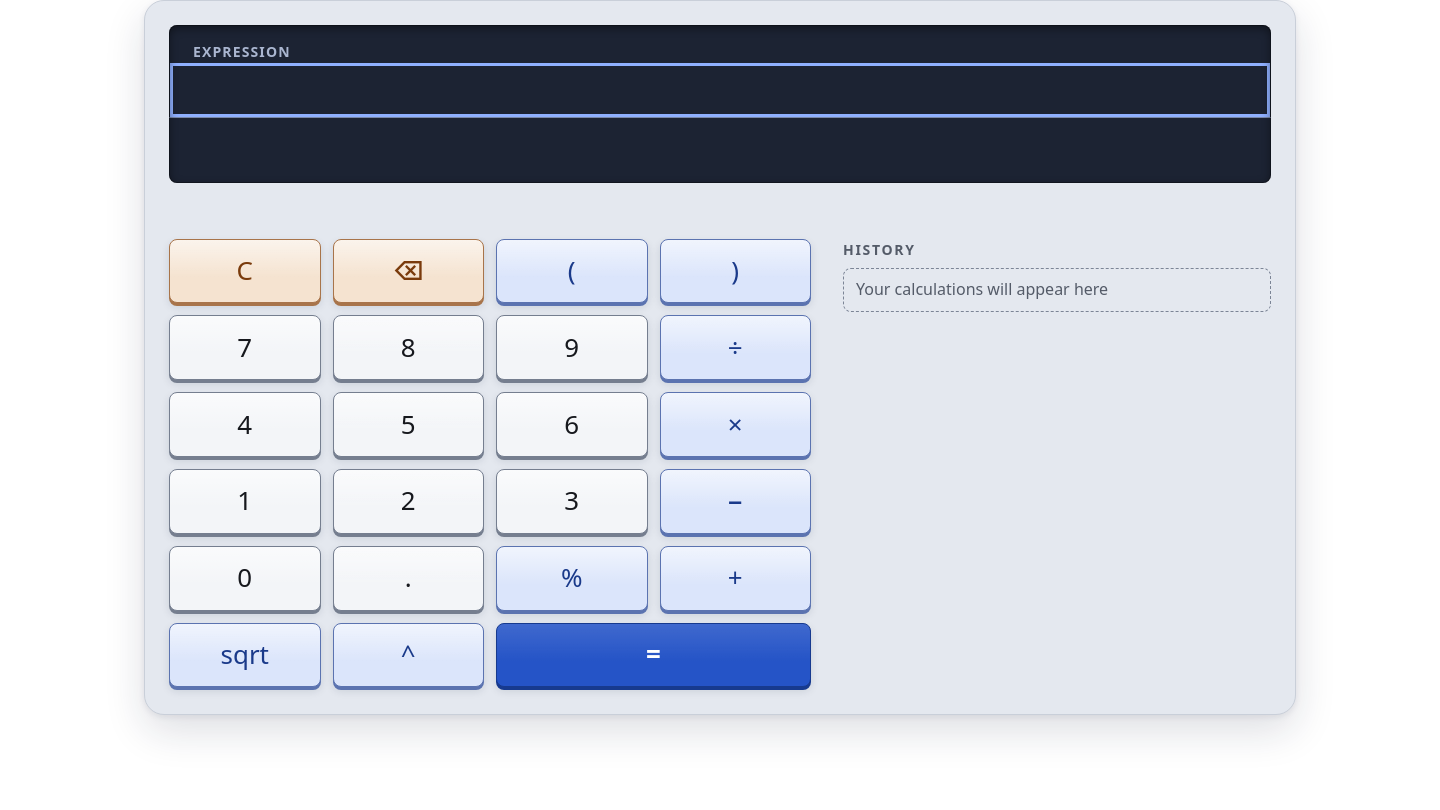
it: <Calculator /> › commit (FR-11) › disables = and ignores Enter while a commit is in flight (FR-11.4)
Type "2+2" into the field labelled "Expression".
click(720, 90); type("2+2")  # box [169, 62, 1271, 118]
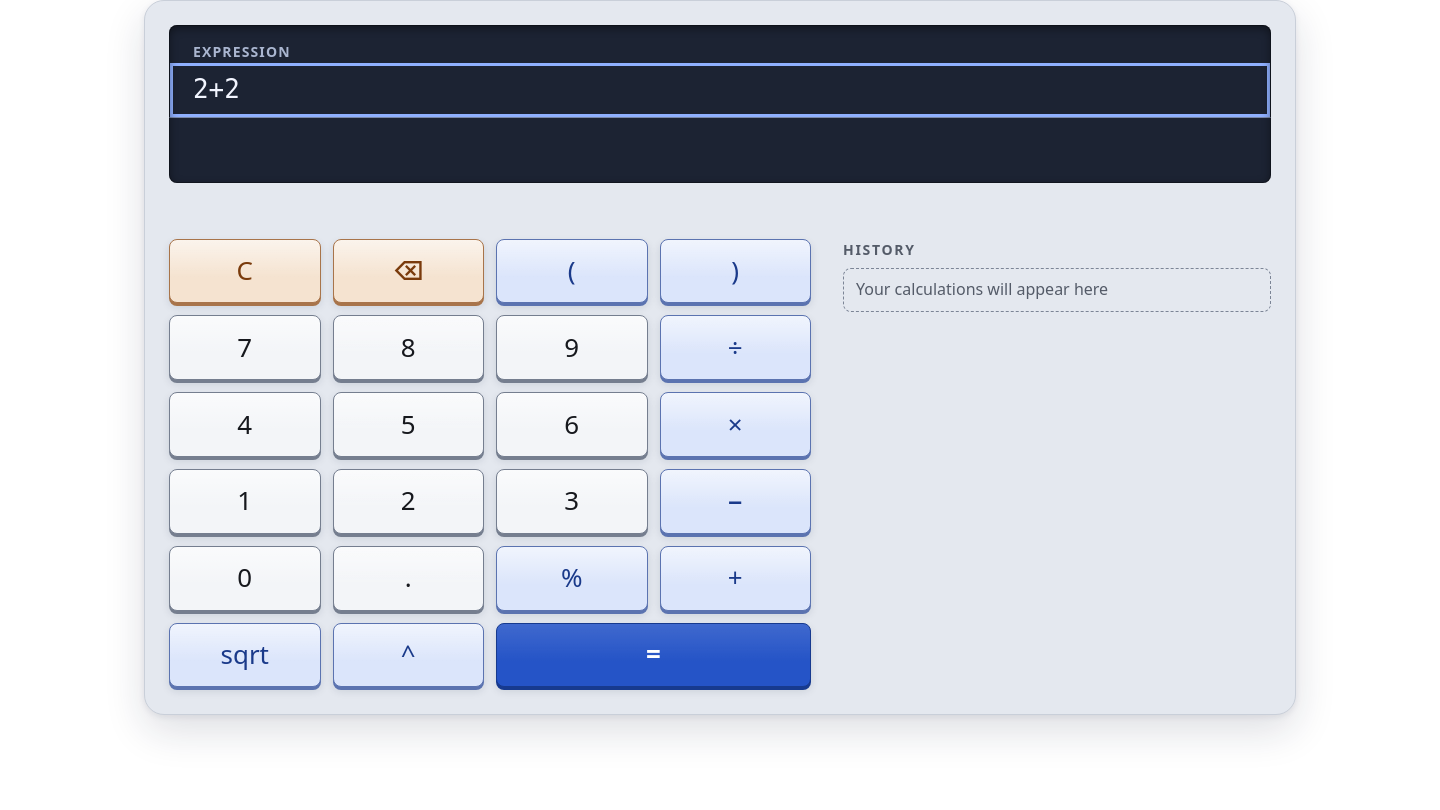
Press Enter
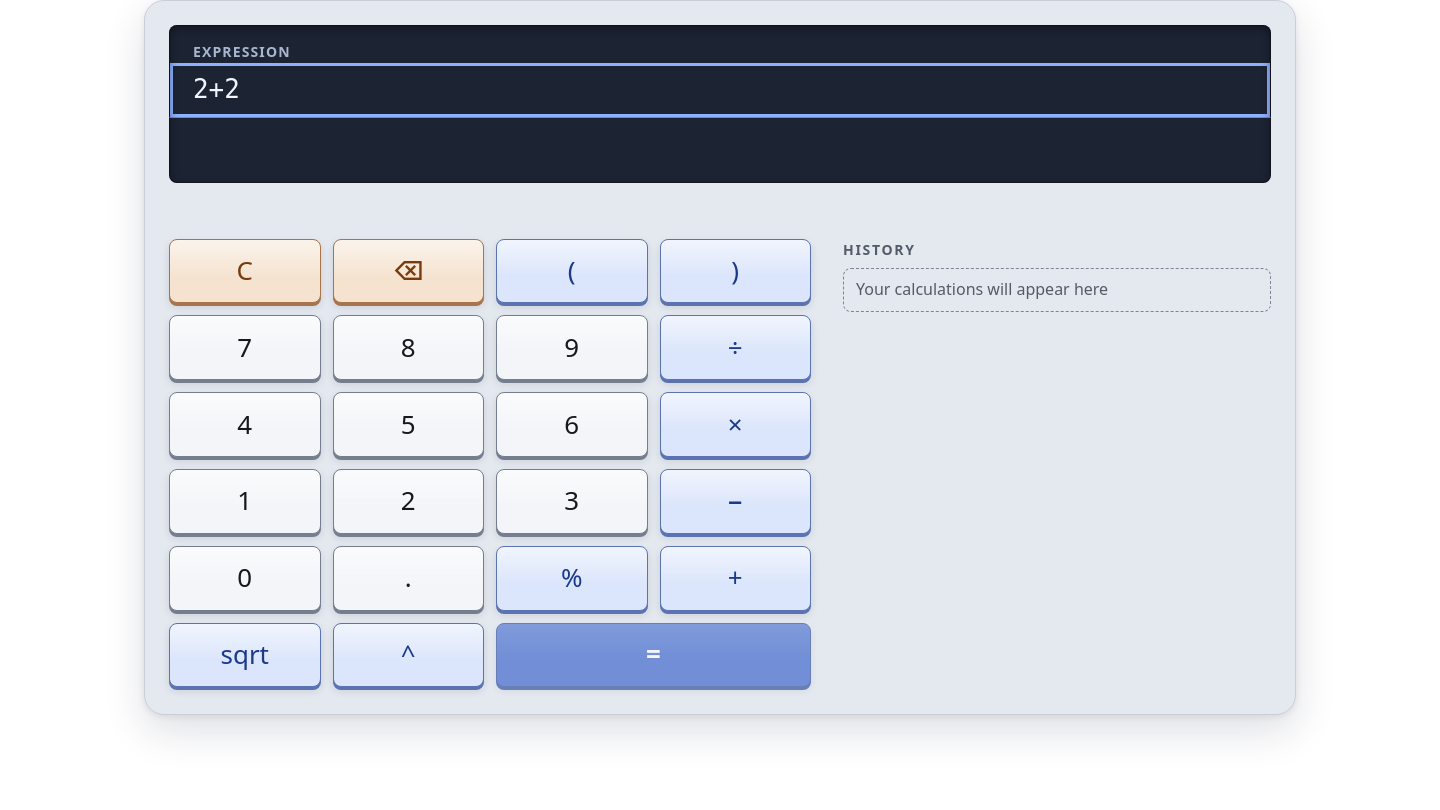
Expected: the button named "equals" is disabled, [496, 623, 811, 687]
Press Enter
Click the button named "equals".
click(654, 655)  # box [496, 623, 811, 687]
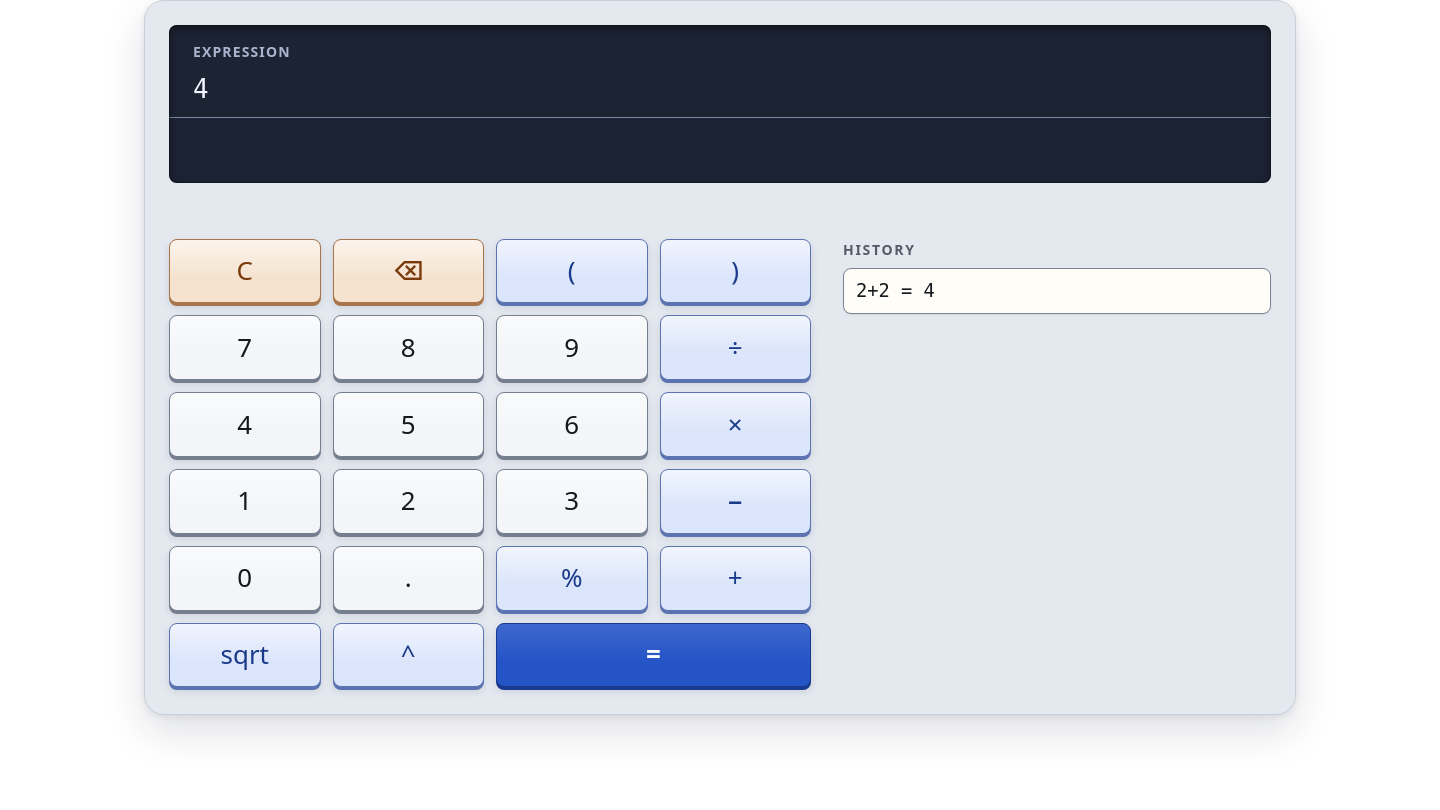
Expected: the field labelled "Expression" holds "4", [169, 62, 1271, 118]
Expected: the button named "equals" is enabled, [496, 623, 811, 687]
Expected: the number of buttons "2+2 = 4" is 1, [844, 269, 1270, 313]
